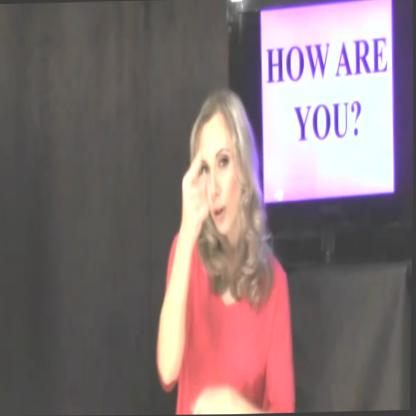HowAreYou: (166, 131, 231, 271)
